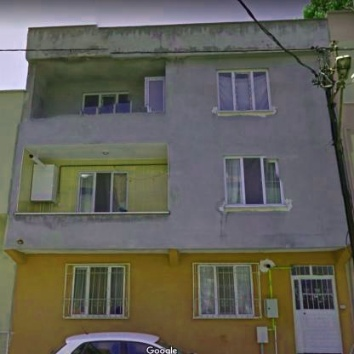door: (291, 266, 343, 352), (145, 78, 164, 112)
